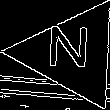N_S: (48, 28, 96, 80)
